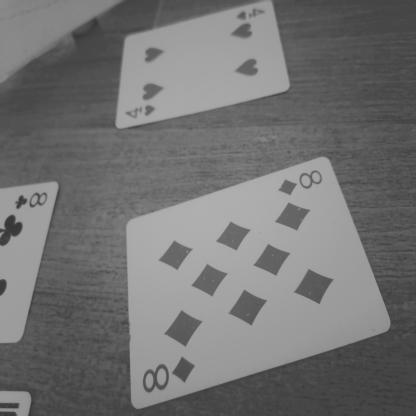4H: (230, 3, 273, 30)
8C: (10, 187, 52, 211)
8D: (132, 351, 204, 402), (274, 159, 332, 208)
